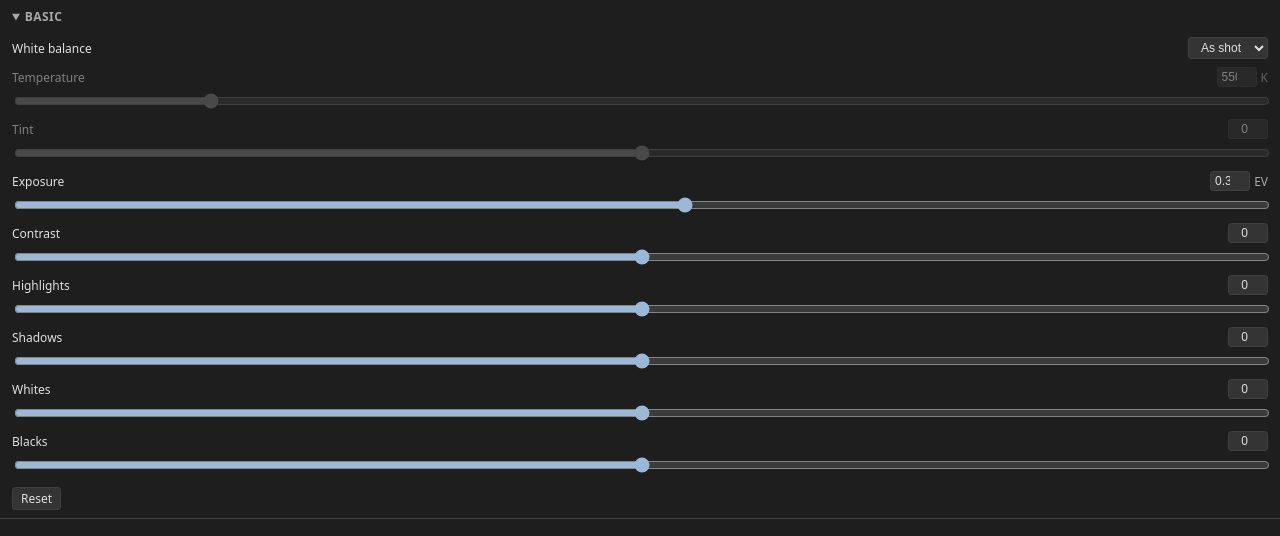
Test: BasicPanel › disables the white balance sliders as shot and enables them in custom
Expected: the slider labelled "Temperature" is disabled, [14, 93, 1270, 109]
Select "Custom" in the dropdown labelled "White balance" at (1228, 48), box [1188, 37, 1268, 59]
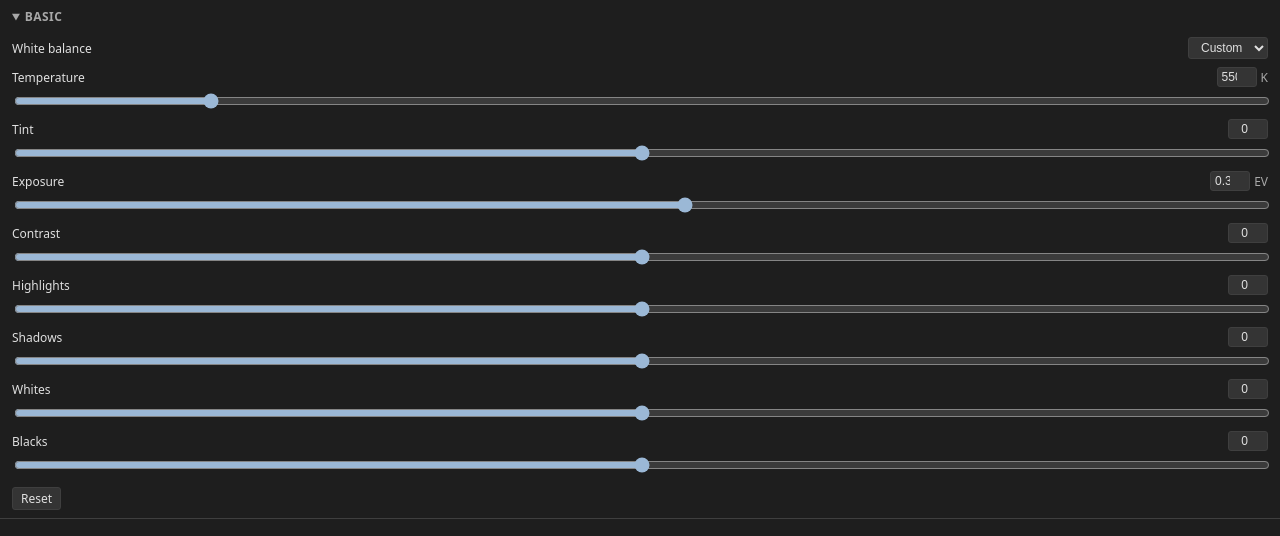
Now the slider labelled "Temperature" is enabled, box [14, 93, 1270, 109]
